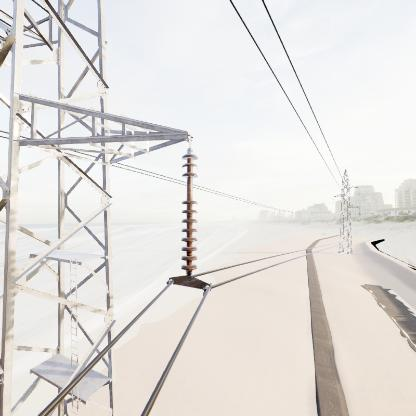insulator: (177, 149, 201, 278)
